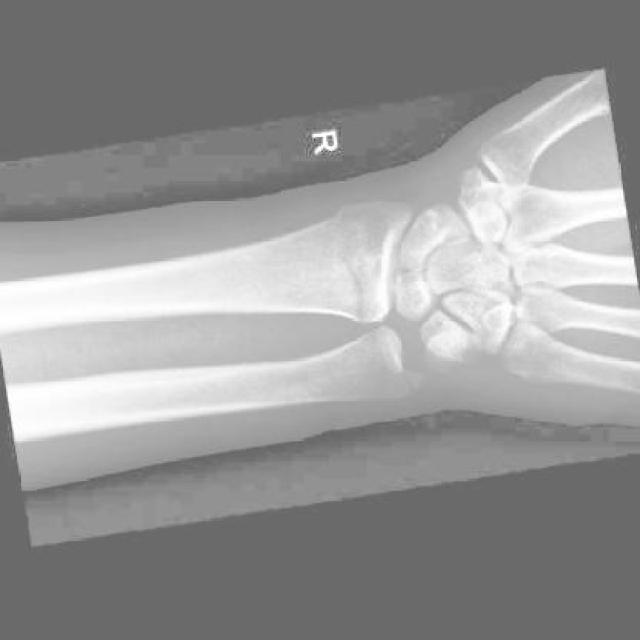Fracture: (329, 202, 391, 330), (402, 373, 431, 399)
